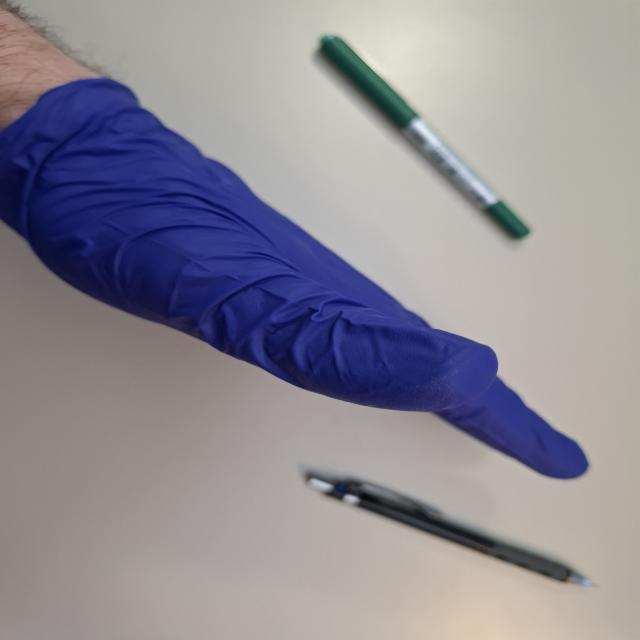glove_on: (0, 77, 593, 482)
